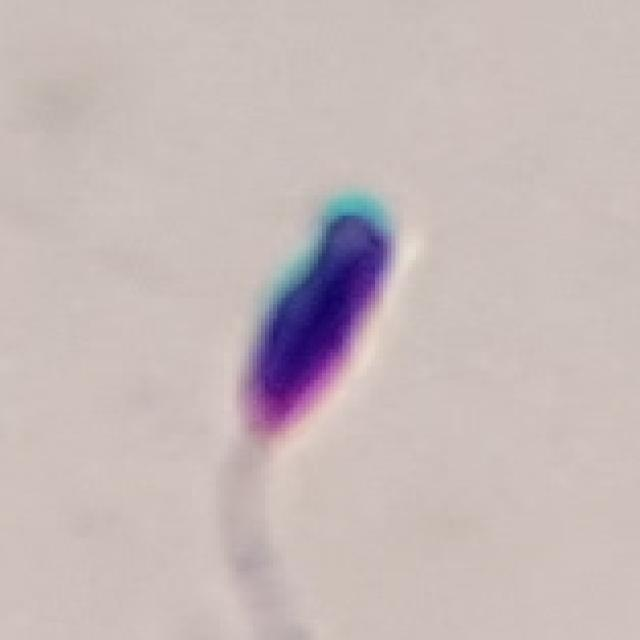abnormal sperm: (212, 203, 400, 548)
